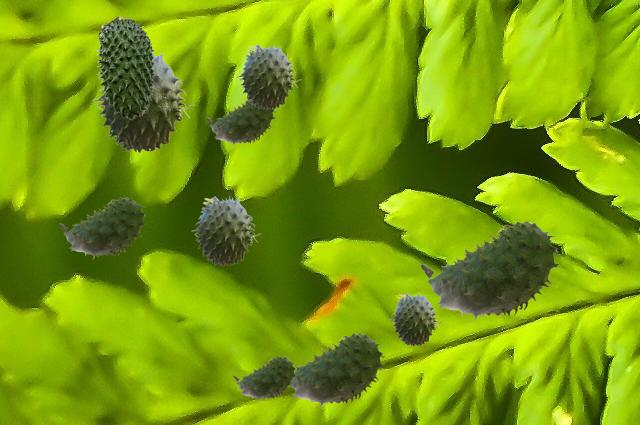guyabano: (420, 221, 558, 321), (92, 52, 194, 152), (291, 333, 383, 407), (96, 15, 155, 119), (59, 197, 145, 258), (191, 195, 260, 265), (236, 43, 300, 109), (206, 100, 274, 145), (389, 292, 441, 345), (233, 356, 295, 400)
